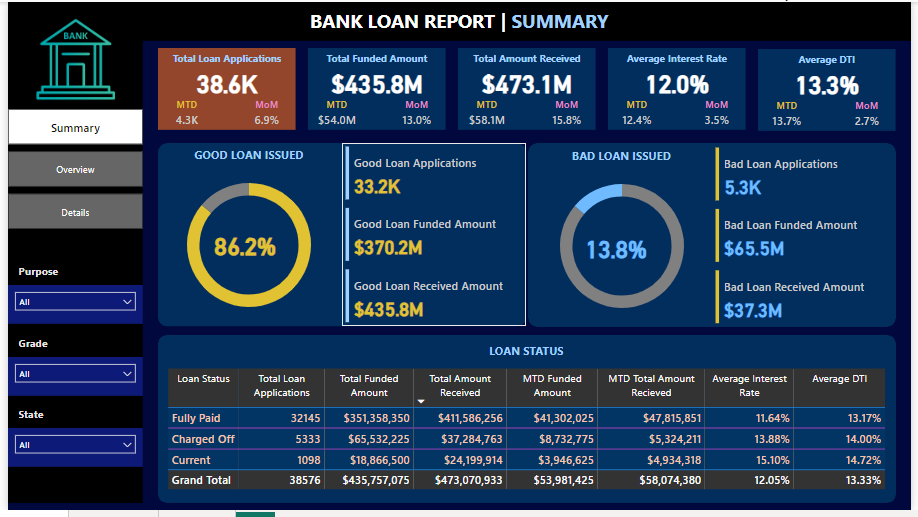

The page's visual inventory and layout, read from the dashboard file:
{"tool":"powerbi","page":{"name":"Summary","canvas":[1280,720],"ordinal":0},"visuals":[{"type":"shape","box":[0,45.4,191.3,664.7],"z":0},{"type":"shape","box":[637.5,64.6,195.4,116.4],"z":0,"group":"g3"},{"type":"shape","box":[850.1,65,195.4,116.4],"z":0,"group":"g4"},{"type":"shape","box":[212.2,65.4,195.4,116.4],"z":0,"group":"g1"},{"type":"shape","box":[424.8,65.7,195.4,116.4],"z":0,"group":"g2"},{"type":"shape","box":[1062.7,66.1,195.4,116.4],"z":0,"group":"g5"},{"type":"slicer","fields":{"Values":["bank_loan_data.purpose"]},"box":[0,401.1,191.3,55.3],"z":0,"group":"g8"},{"type":"slicer","fields":{"Values":["bank_loan_data.grade"]},"box":[0,503.1,191.3,55.3],"z":0,"group":"g6"},{"type":"slicer","fields":{"Values":["bank_loan_data.address_state"]},"box":[0,603.7,191.3,55.3],"z":0,"group":"g7"},{"type":"shape","box":[0,0,1280,55],"z":1000},{"type":"card","fields":{"Values":["bank_loan_data.Total Amount Received"]},"box":[637.5,91.9,195.4,43.1],"z":1000,"group":"g3"},{"type":"card","fields":{"Values":["bank_loan_data.Average Interest Rate"]},"box":[850.1,92.3,195.4,43.1],"z":1000,"group":"g4"},{"type":"card","fields":{"Values":["bank_loan_data.Total Loan Applications"]},"box":[212.2,92.7,195.4,43.1],"z":1000,"group":"g1"},{"type":"card","fields":{"Values":["bank_loan_data.Total Funded Amount"]},"box":[424.8,93,195.4,43.1],"z":1000,"group":"g2"},{"type":"card","fields":{"Values":["bank_loan_data.Average DTI"]},"box":[1062.7,93.4,195.4,43.1],"z":1000,"group":"g5"},{"type":"textbox","box":[9.9,365.7,86.5,35.4],"z":1000,"group":"g8"},{"type":"textbox","box":[9.9,467.7,86.5,35.4],"z":1000,"group":"g6"},{"type":"textbox","box":[9.9,568.3,86.5,35.4],"z":1000,"group":"g7"},{"type":"textbox","box":[637.5,64.6,195.4,37.4],"z":2000,"group":"g3"},{"type":"textbox","box":[850.1,65,195.4,37.4],"z":2000,"group":"g4"},{"type":"textbox","box":[212.2,65.4,195.4,37.4],"z":2000,"group":"g1"},{"type":"textbox","box":[424.8,65.7,195.4,37.4],"z":2000,"group":"g2"},{"type":"textbox","box":[1062.7,66.1,195.4,37.4],"z":2000,"group":"g5"},{"type":"shape","box":[212.6,199.8,522,260],"z":2000},{"type":"textbox","box":[415.7,2.9,448.6,48.6],"z":3000},{"type":"card","title":"MTD","fields":{"Values":["bank_loan_data.MTD Total Amount Recieved"]},"box":[637.5,135,81.9,48.8],"z":3000,"group":"g3"},{"type":"card","title":"MTD","fields":{"Values":["bank_loan_data.MTD Average Interest Rate"]},"box":[850.1,135.4,81.9,48.8],"z":3000,"group":"g4"},{"type":"card","title":"MTD","fields":{"Values":["bank_loan_data.MTD Loan Applications"]},"box":[212.2,135.8,81.9,48.8],"z":3000,"group":"g1"},{"type":"card","title":"MTD","fields":{"Values":["bank_loan_data.MTD Funded Amount"]},"box":[424.8,136.1,81.9,48.8],"z":3000,"group":"g2"},{"type":"card","title":"MTD","fields":{"Values":["bank_loan_data.MTD Average DTI"]},"box":[1062.7,136.5,81.9,48.8],"z":3000,"group":"g5"},{"type":"card","title":"MoM","fields":{"Values":["bank_loan_data.MoM Total Amount Received"]},"box":[751,135,81.9,48.8],"z":4000,"group":"g3"},{"type":"card","title":"MoM","fields":{"Values":["bank_loan_data.MoM Average Interest Rate"]},"box":[963.6,135.4,81.9,48.8],"z":4000,"group":"g4"},{"type":"card","title":"MoM","fields":{"Values":["bank_loan_data.MoM Loan Applications"]},"box":[325.7,135.8,81.9,48.8],"z":4000,"group":"g1"},{"type":"card","title":"MoM","fields":{"Values":["bank_loan_data.MoM Total Funded Amount"]},"box":[538.3,136.1,81.9,48.8],"z":4000,"group":"g2"},{"type":"card","title":"MoM","fields":{"Values":["bank_loan_data.MoM Average DTI"]},"box":[1176.2,136.5,81.9,48.8],"z":4000,"group":"g5"},{"type":"donutChart","fields":{"Category":["bank_loan_data.Good vs Bad Loan"],"Y":["bank_loan_data.Total Loan Applications"]},"box":[216.9,229.6,249.4,229.6],"z":4000},{"type":"group","id":"g1","title":"Group 1","box":[212.2,65.4,195.4,119.2],"z":5000},{"type":"group","id":"g2","title":"Group 1","box":[424.8,65.7,195.4,119.2],"z":6000},{"type":"card","fields":{"Values":["bank_loan_data.Good Loan %"]},"box":[273.5,321.7,124.7,43.9],"z":7000},{"type":"group","id":"g3","title":"Group 1","box":[637.5,64.6,195.4,119.2],"z":8000},{"type":"textbox","box":[235.3,199.8,212.6,36.9],"z":9000},{"type":"group","id":"g4","title":"Group 1","box":[850.1,65,195.4,119.2],"z":10000},{"type":"shape","box":[212.6,472,1046,238.1],"z":11000},{"type":"group","id":"g5","title":"Group 1","box":[1062.7,66.1,195.4,119.2],"z":12000},{"type":"shape","box":[737,199.8,521.6,260.8],"z":13000},{"type":"cardVisual","fields":{"Data":["bank_loan_data.Good Loan Applications","bank_loan_data.Good Loan Funded Amount","bank_loan_data.Good Loan Received Amount"]},"box":[473.4,199.8,260.8,259.4],"z":14000},{"type":"cardVisual","fields":{"Data":["bank_loan_data.Bad Loan Applications","bank_loan_data.Bad Loan Funded Amount","bank_loan_data.Bad Loan Received Amount"]},"box":[997.8,201.3,260.8,259.4],"z":15000},{"type":"donutChart","fields":{"Category":["bank_loan_data.Good vs Bad Loan"],"Y":["bank_loan_data.Total Loan Applications"]},"box":[745.5,231,249.4,229.6],"z":16000},{"type":"card","fields":{"Values":["bank_loan_data.Bad Loan %"]},"box":[799.4,326,124.7,43.9],"z":17000},{"type":"textbox","box":[756.8,201.3,225.4,36.9],"z":18000},{"type":"tableEx","fields":{"Values":["bank_loan_data.loan_status","bank_loan_data.Total Loan Applications","bank_loan_data.Total Funded Amount","bank_loan_data.Total Amount Received","bank_loan_data.MTD Funded Amount","bank_loan_data.MTD Total Amount Recieved","bank_loan_data.Average Interest Rate","bank_loan_data.Average DTI"]},"box":[221.1,514.5,1027.6,185.7],"z":19000},{"type":"textbox","box":[221.1,477.6,1027.6,36.9],"z":20000},{"type":"group","id":"g6","title":"Group 2","box":[0,467.7,191.3,90.7],"z":21000},{"type":"group","id":"g7","title":"Group 2","box":[0,568.3,191.3,90.7],"z":22000},{"type":"group","id":"g8","title":"Group 2","box":[0,365.7,191.3,90.7],"z":23000},{"type":"image","box":[0,0,191.3,161.6],"z":24000},{"type":"pageNavigator","box":[0,151.7,191.3,170.1],"z":25000}]}

Visuals, with their boxes in screenshot pixels (x1, y1, x2, y2), scaled from the page's 1280x720 canvas onto the 918x517 screenshot:
shape: <box>0,33,137,510</box>
shape: <box>457,46,597,130</box>
shape: <box>610,47,750,130</box>
shape: <box>152,47,292,131</box>
shape: <box>305,47,445,131</box>
shape: <box>762,47,902,131</box>
slicer - bank_loan_data.purpose: <box>0,288,137,328</box>
slicer - bank_loan_data.grade: <box>0,361,137,401</box>
slicer - bank_loan_data.address_state: <box>0,433,137,473</box>
shape: <box>0,0,917,39</box>
card - bank_loan_data.Total Amount Received: <box>457,66,597,97</box>
card - bank_loan_data.Average Interest Rate: <box>610,66,750,97</box>
card - bank_loan_data.Total Loan Applications: <box>152,67,292,98</box>
card - bank_loan_data.Total Funded Amount: <box>305,67,445,98</box>
card - bank_loan_data.Average DTI: <box>762,67,902,98</box>
textbox: <box>7,263,69,288</box>
textbox: <box>7,336,69,361</box>
textbox: <box>7,408,69,433</box>
textbox: <box>457,46,597,73</box>
textbox: <box>610,47,750,74</box>
textbox: <box>152,47,292,74</box>
textbox: <box>305,47,445,74</box>
textbox: <box>762,47,902,74</box>
shape: <box>152,143,527,330</box>
textbox: <box>298,2,620,37</box>
"MTD" card: <box>457,97,516,132</box>
"MTD" card: <box>610,97,668,132</box>
"MTD" card: <box>152,98,211,133</box>
"MTD" card: <box>305,98,363,133</box>
"MTD" card: <box>762,98,821,133</box>
"MoM" card: <box>539,97,597,132</box>
"MoM" card: <box>691,97,750,132</box>
"MoM" card: <box>234,98,292,133</box>
"MoM" card: <box>386,98,445,133</box>
"MoM" card: <box>844,98,902,133</box>
donutChart - bank_loan_data.Good vs Bad Loan x bank_loan_data.Total Loan Applications: <box>156,165,334,330</box>
"Group 1" group: <box>152,47,292,133</box>
"Group 1" group: <box>305,47,445,133</box>
card - bank_loan_data.Good Loan %: <box>196,231,286,263</box>
"Group 1" group: <box>457,46,597,132</box>
textbox: <box>169,143,321,170</box>
"Group 1" group: <box>610,47,750,132</box>
shape: <box>152,339,903,510</box>
"Group 1" group: <box>762,47,902,133</box>
shape: <box>529,143,903,331</box>
cardVisual - bank_loan_data.Good Loan Applications x bank_loan_data.Good Loan Funded Amount: <box>340,143,527,330</box>
cardVisual - bank_loan_data.Bad Loan Applications x bank_loan_data.Bad Loan Funded Amount: <box>716,145,903,331</box>
donutChart - bank_loan_data.Good vs Bad Loan x bank_loan_data.Total Loan Applications: <box>535,166,714,331</box>
card - bank_loan_data.Bad Loan %: <box>573,234,663,266</box>
textbox: <box>543,145,704,171</box>
tableEx - bank_loan_data.loan_status x bank_loan_data.Total Loan Applications: <box>159,369,896,503</box>
textbox: <box>159,343,896,369</box>
"Group 2" group: <box>0,336,137,401</box>
"Group 2" group: <box>0,408,137,473</box>
"Group 2" group: <box>0,263,137,328</box>
image: <box>0,0,137,116</box>
pageNavigator: <box>0,109,137,231</box>
